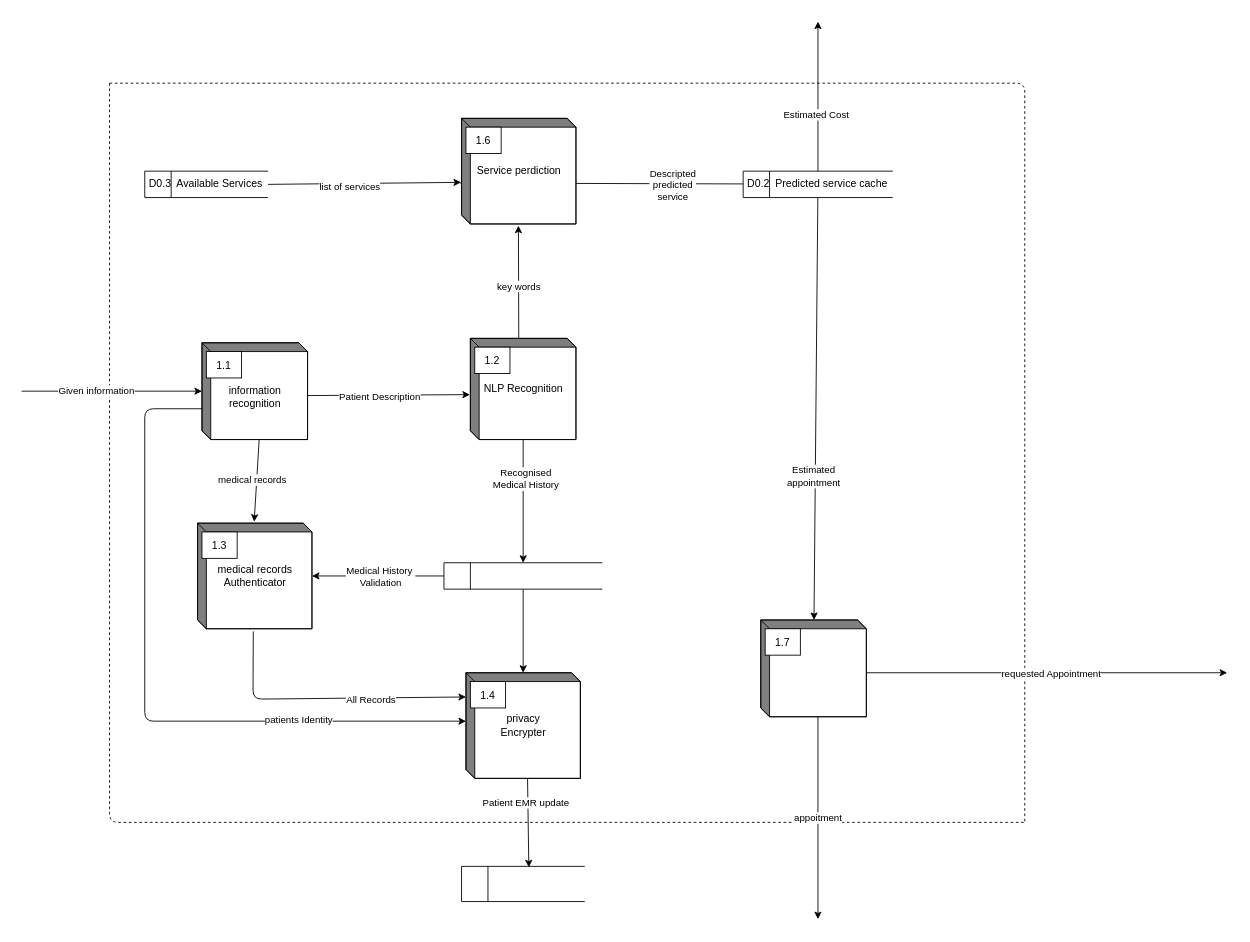
The diagram is 1250 pixels wide and 942 high, and some of its shapes have lost their labels. Each missing label, with the centre of its shape:
"Appointment Handling" belongs at [813,668].
"D0.1 Medical History cache" belongs at [522,575].
"D1 Patient EMR" belongs at [523,883].
